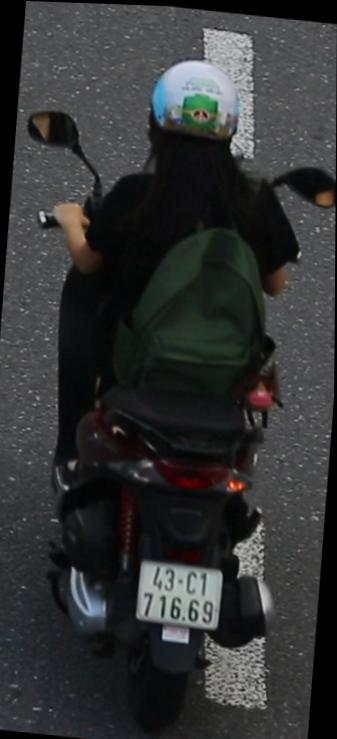LP: (130, 547, 226, 633)
helmet: (137, 45, 249, 194)
